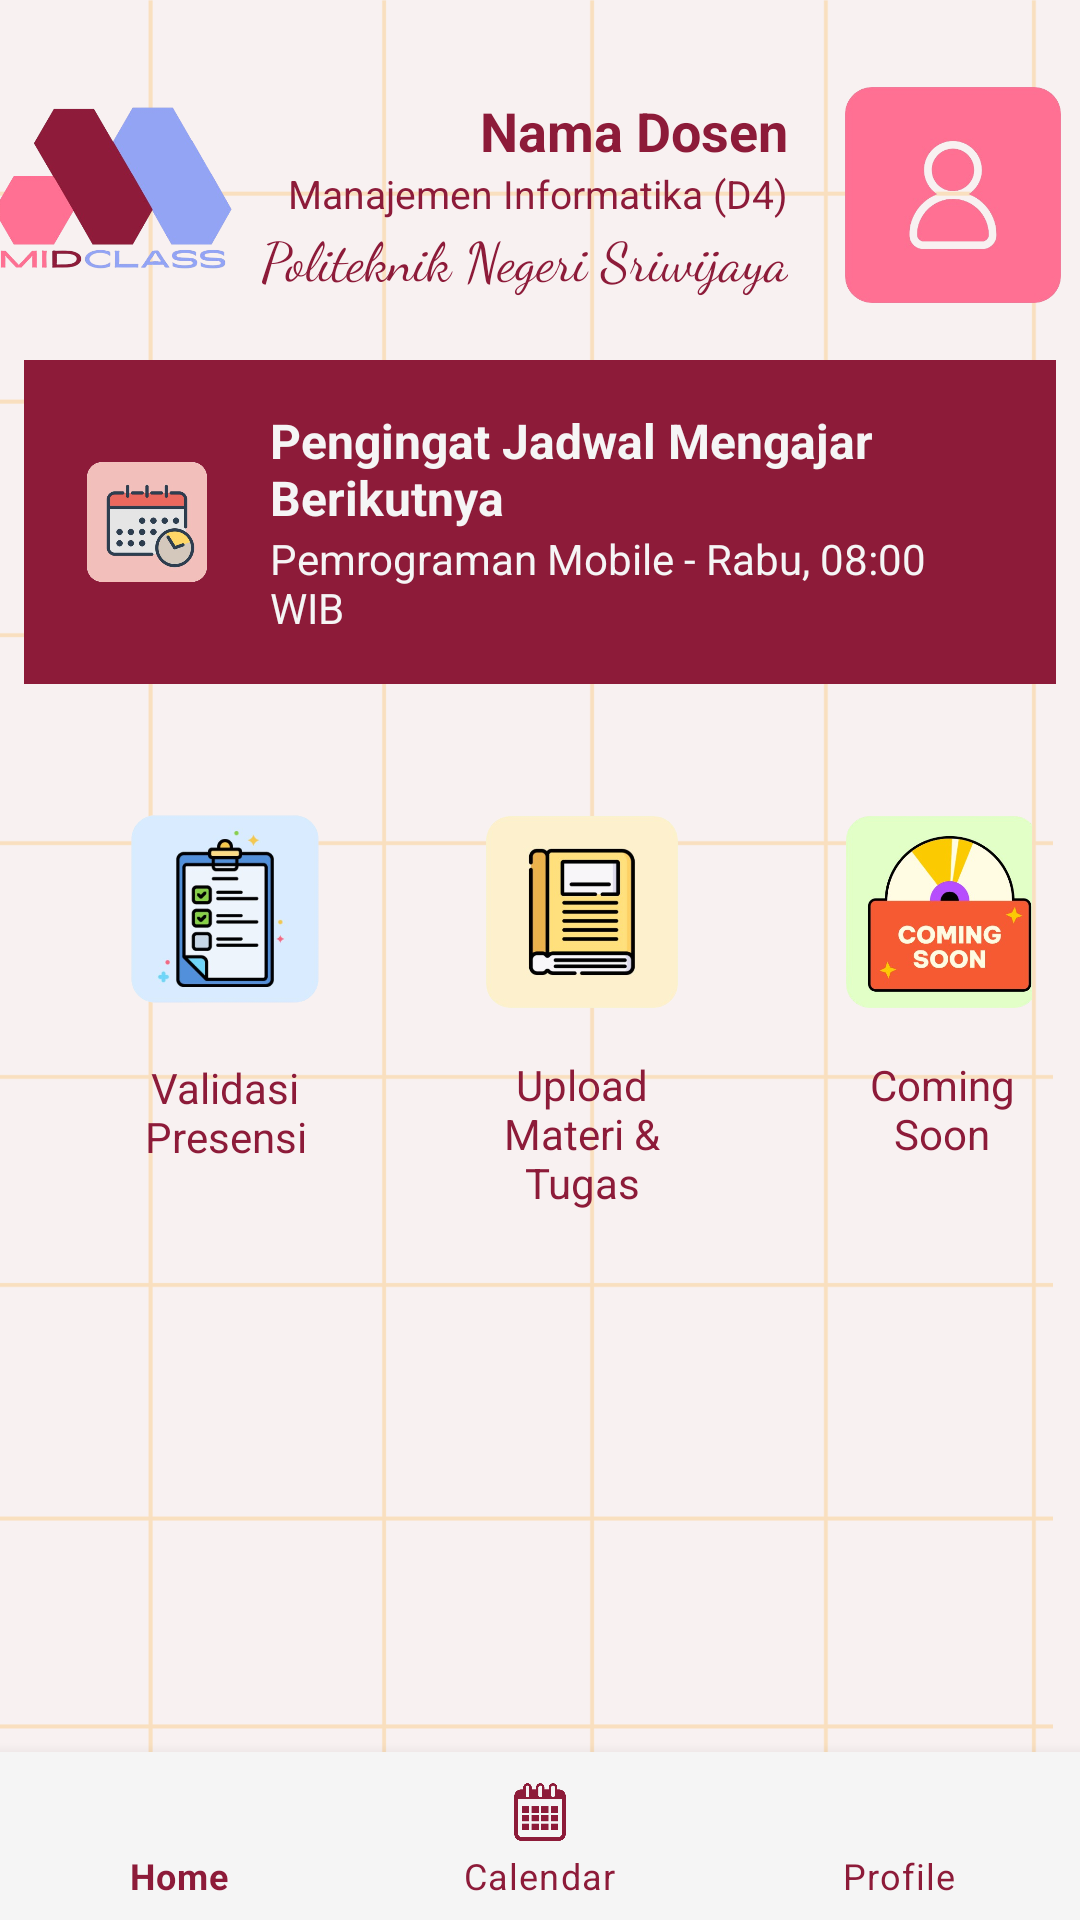

Where to tap for icons on this 1080 x 1920 app screen, as (x,y):
absensi: (225,909)
Icon Profil: (939,195)
